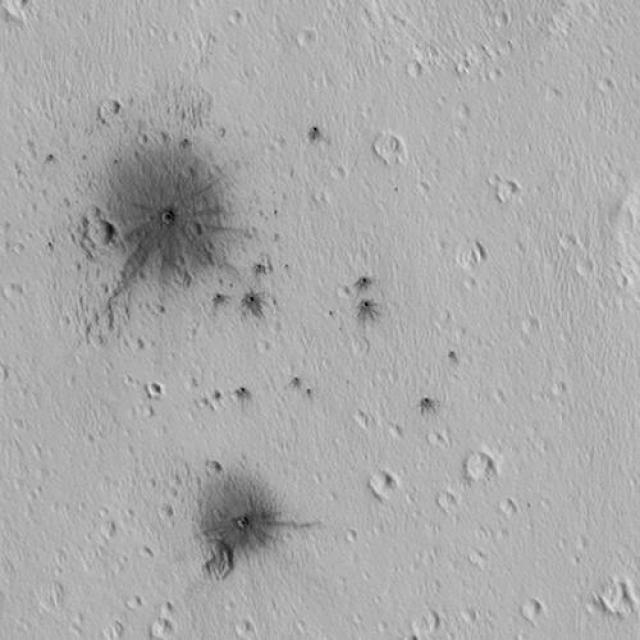crater: (358, 0, 588, 118), (119, 164, 219, 271), (64, 205, 146, 279), (208, 478, 276, 556), (400, 385, 478, 447), (476, 165, 547, 222), (357, 452, 423, 512), (188, 540, 251, 598), (328, 252, 394, 302), (279, 368, 343, 419), (498, 594, 566, 636), (340, 287, 400, 331), (594, 570, 640, 627), (298, 109, 354, 153), (369, 129, 419, 176), (134, 365, 180, 413), (0, 270, 44, 320), (230, 284, 282, 325), (453, 236, 501, 280), (252, 249, 302, 290), (532, 367, 582, 407), (0, 0, 72, 27), (426, 475, 471, 517), (85, 511, 139, 546), (0, 87, 31, 147), (0, 30, 33, 85), (413, 601, 459, 640), (287, 19, 326, 64), (86, 90, 129, 128), (198, 280, 240, 316), (0, 20, 29, 72), (0, 42, 32, 86), (144, 612, 194, 640), (503, 305, 543, 340), (0, 107, 28, 155), (462, 447, 497, 485), (0, 0, 41, 32), (193, 0, 243, 26), (0, 587, 24, 640), (0, 375, 28, 419), (0, 460, 26, 506), (196, 377, 229, 413), (0, 287, 22, 338), (0, 288, 28, 328), (230, 609, 265, 640), (84, 0, 137, 19), (0, 468, 23, 506), (0, 49, 19, 94), (0, 600, 22, 638), (98, 608, 123, 640), (0, 423, 20, 462), (0, 498, 20, 534), (79, 0, 127, 14), (278, 0, 325, 14), (0, 43, 15, 85), (0, 498, 13, 543), (0, 0, 26, 22), (0, 0, 24, 22), (0, 27, 17, 56), (0, 450, 15, 477), (395, 631, 429, 640)
